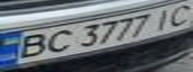3: (75, 21, 100, 48)
7: (130, 11, 157, 38), (96, 18, 121, 46), (115, 16, 139, 43)
B: (6, 30, 54, 61)
C: (36, 28, 78, 55), (163, 2, 193, 28)
I: (148, 7, 178, 32)
